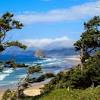beach: (3, 56, 84, 88)
sky: (4, 1, 94, 52)
tree: (79, 17, 100, 87), (2, 11, 23, 58)
